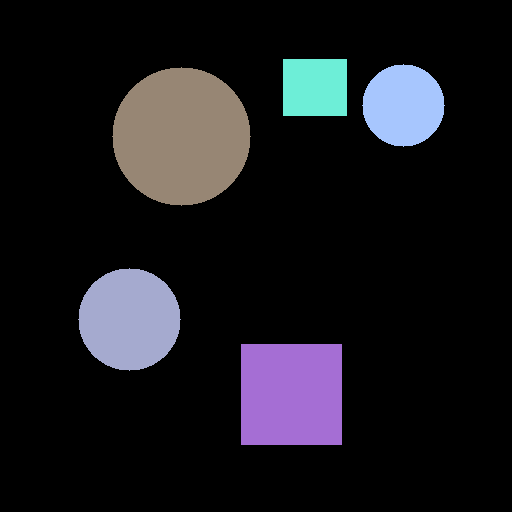circle: (112, 67, 250, 205), (78, 268, 180, 370), (362, 64, 444, 146)
rectangle: (283, 59, 346, 115)
square: (241, 344, 341, 444)
